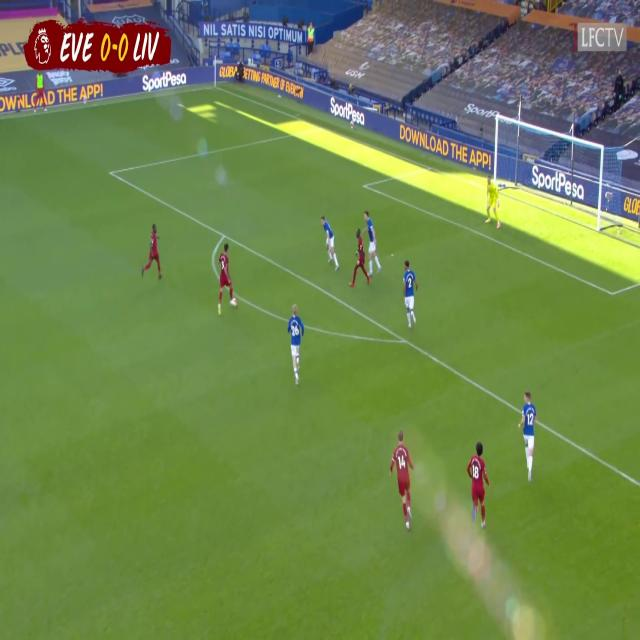Ball: (231, 293, 238, 313)
GoalKeeper: (485, 166, 503, 228)
TEAM 1: (390, 432, 415, 532), (467, 443, 492, 529), (217, 242, 236, 311), (349, 223, 367, 294), (142, 224, 164, 282)
TEAM 2: (286, 304, 304, 388), (520, 392, 536, 482), (364, 200, 381, 276), (401, 260, 418, 329), (322, 215, 340, 272)
